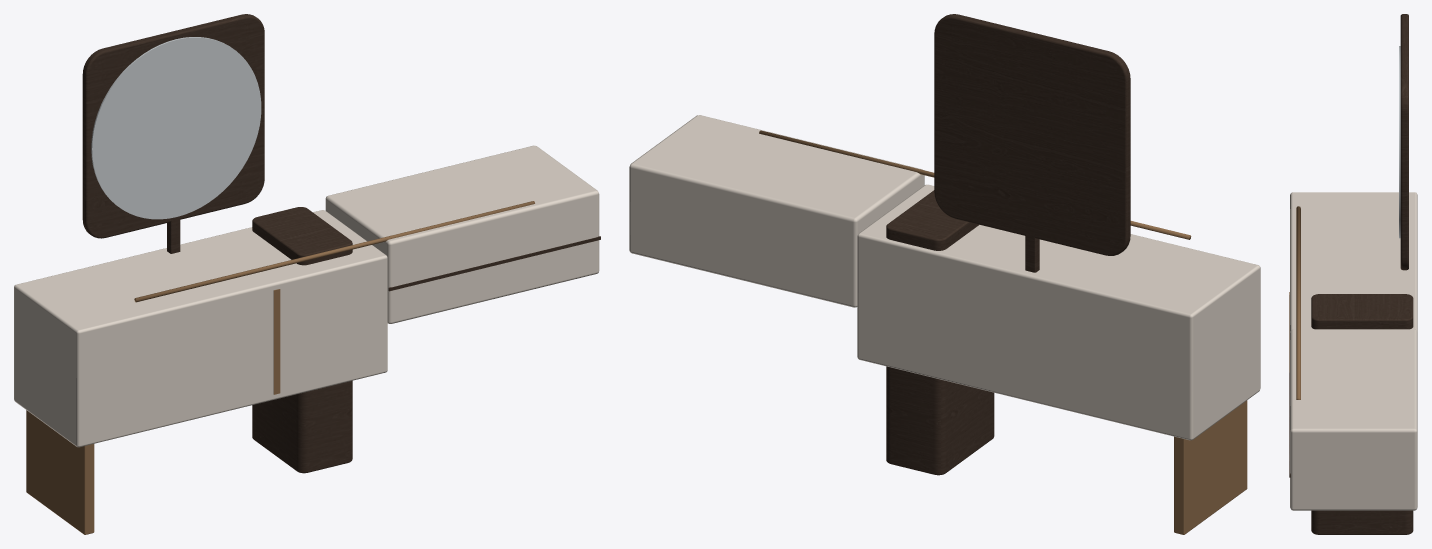
The model's file is tokyo-dining-set--console.glb.
3 views of the same model, side by side, from view 1: azimuth 30°, elevation 25°; view 2: azimuth 150°, elevation 25°; view 3: azimuth 270°, elevation 25° (orthographic). The views are drawn at different scales.
Visible parts, largest first — view 1: left, right, mglass, mframe, column, slab, rail, rightline, seam; view 2: left, mframe, right, column, slab, rail; view 3: right, left, column, mframe, rail, mglass.
Boxes of the visible parts, x1,y1,x2,y2 form: left: (14,210,387,447); right: (325,145,599,323); mglass: (91,37,261,219); mframe: (82,14,264,238); column: (252,207,352,473); slab: (26,410,94,534); rail: (134,201,534,302); rightline: (388,236,600,291); seam: (273,289,280,394); left: (857,184,1260,440); mframe: (934,14,1130,255); right: (629,115,924,307); column: (886,190,994,475); slab: (1174,400,1247,534); rail: (759,130,1191,239); right: (1290,329,1417,510); left: (1290,192,1417,331); column: (1311,294,1413,534); mframe: (1400,14,1408,270); rail: (1296,206,1300,399); mglass: (1399,46,1400,238).
Bounding box in the file's own units: 2.1 × 1.64 × 0.4525.
Materials: 4 (1 with a texture image).
